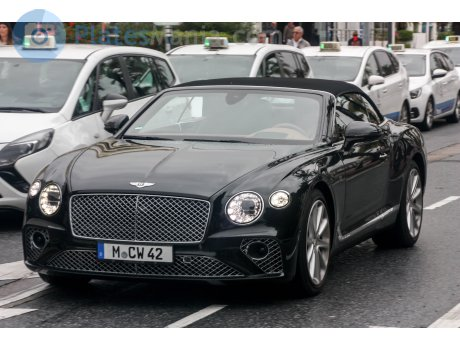License Plates: (103, 244, 167, 259)
